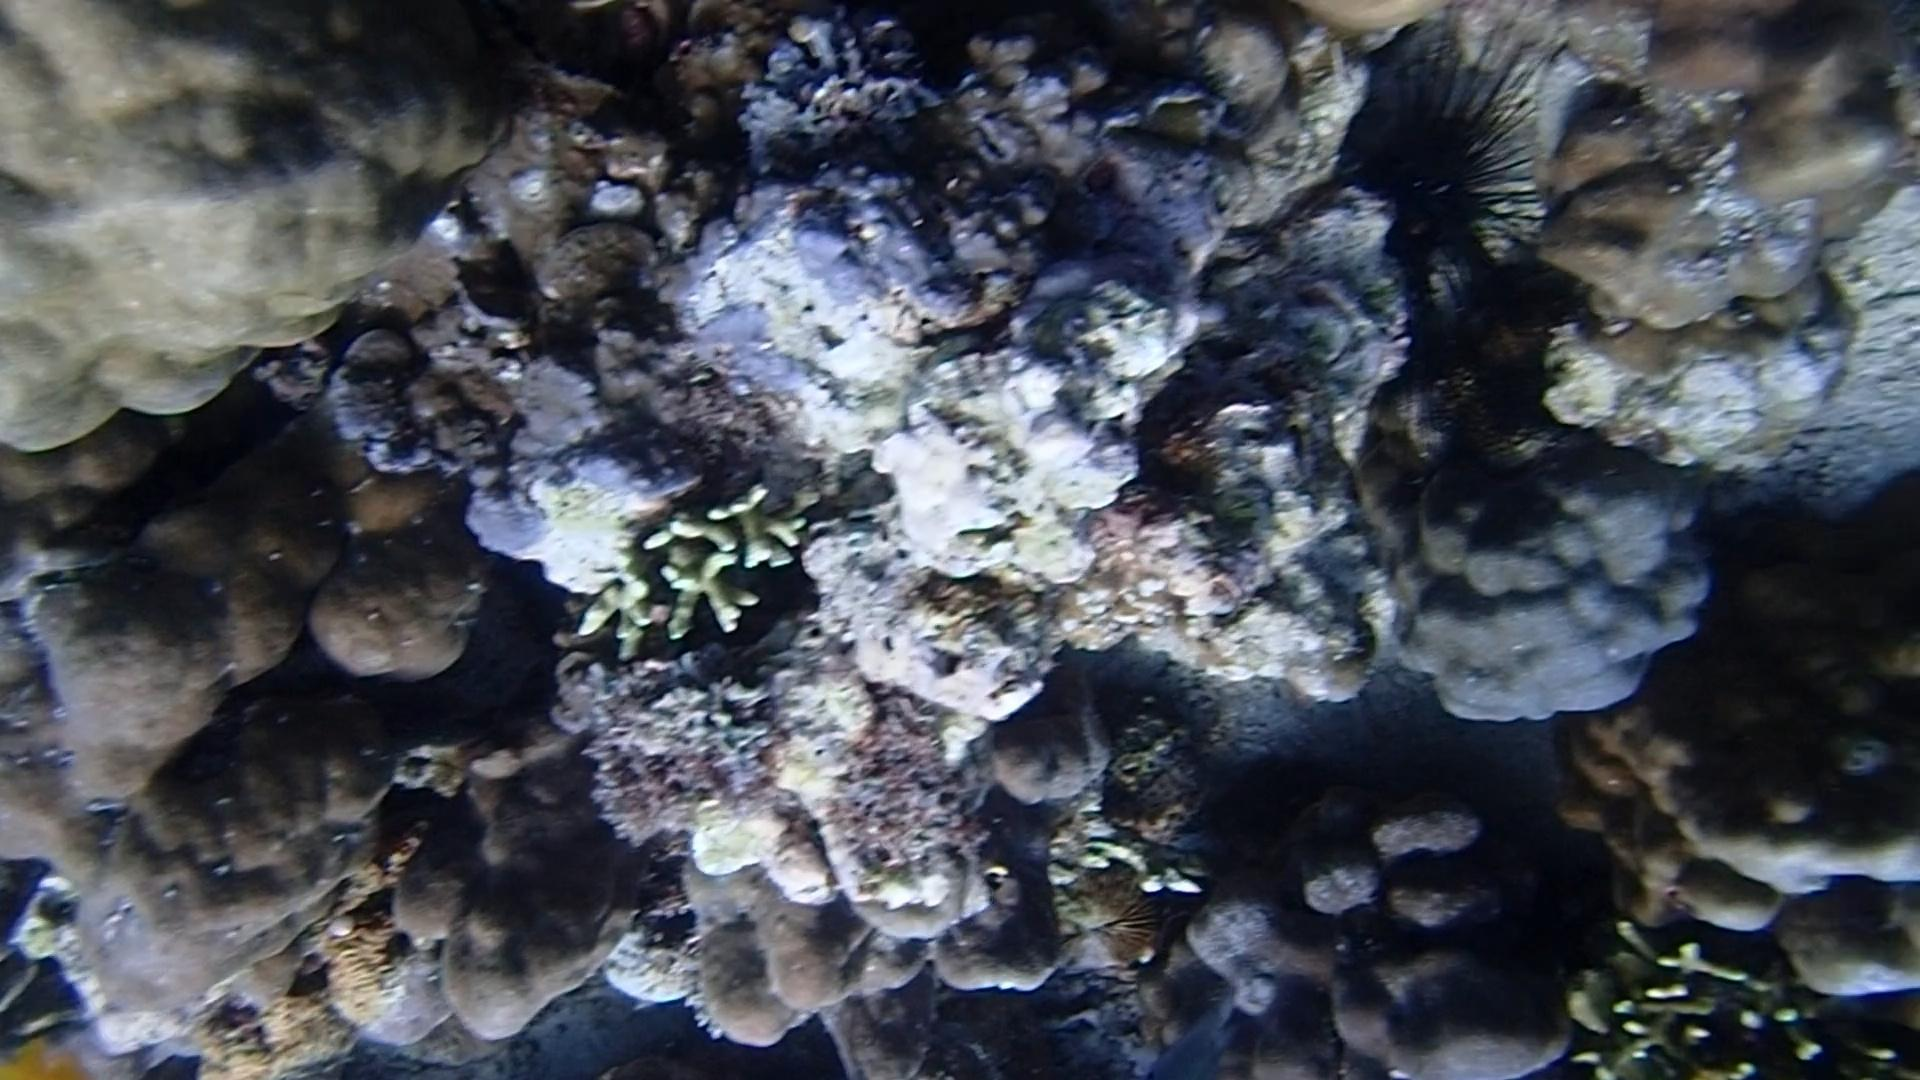Blue Fish Two: (1147, 992, 1234, 1080)
